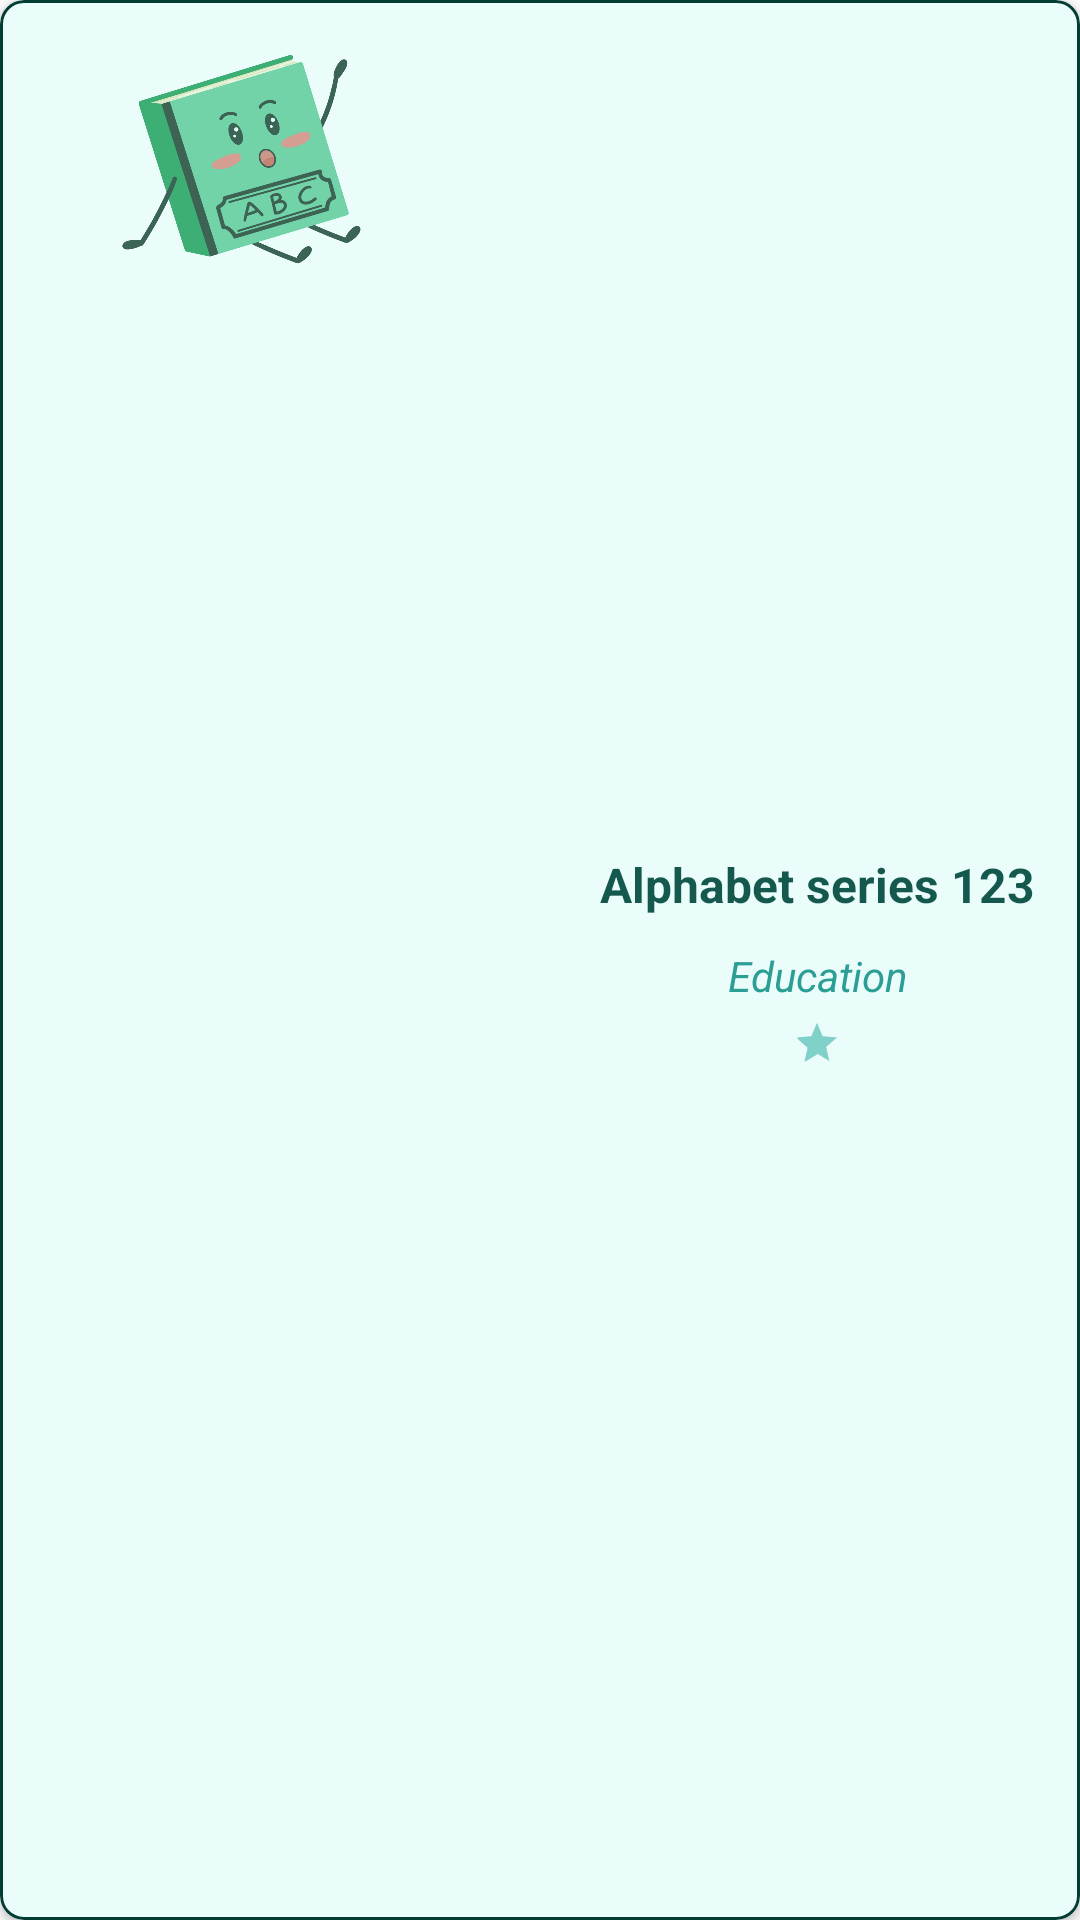

Screen size 1080 x 1920. Icon name, then its box in pixels as box=[x1, y1, x2, y2]:
book: box=[122, 55, 361, 263]
